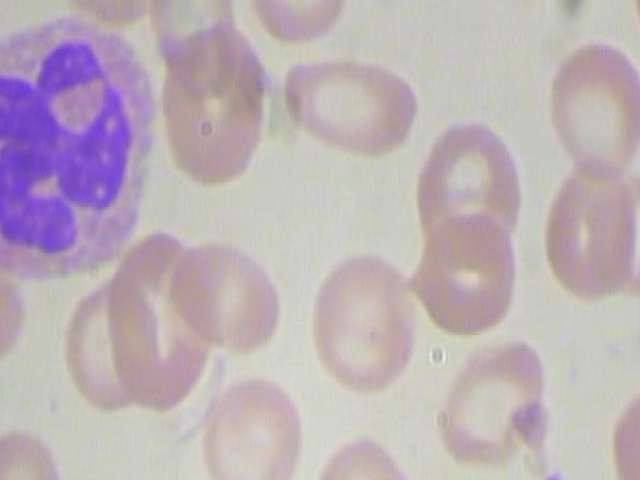Platelets: (529, 466, 580, 480), (633, 313, 640, 358)
RBC: (427, 320, 558, 470), (272, 46, 433, 163), (404, 200, 529, 345), (307, 244, 421, 399), (539, 32, 640, 193), (542, 149, 640, 311), (161, 241, 296, 358), (196, 366, 308, 480), (237, 0, 366, 48), (0, 415, 77, 480), (53, 0, 165, 42), (333, 471, 442, 480)
WBC: (0, 16, 164, 301)
